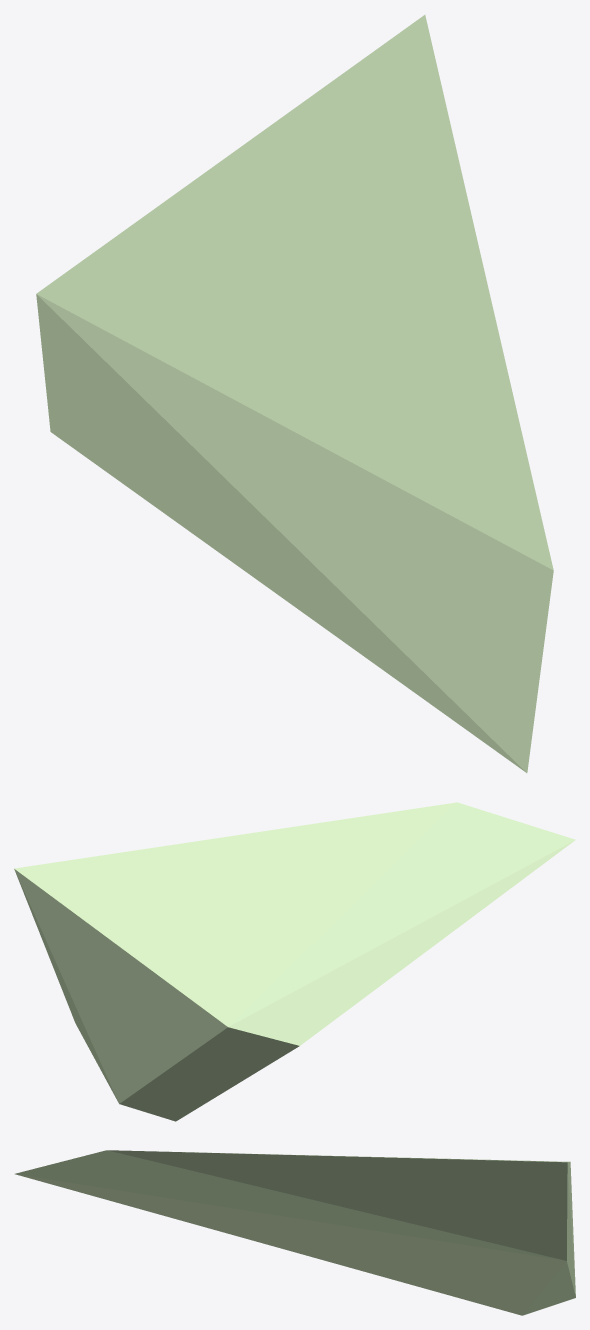
File: kuka_URDF_robot_base_coll_12.dae
The picture shows the model from 3 angles, top to bottom: view 1: azimuth 30°, elevation 25°; view 2: azimuth 150°, elevation 25°; view 3: azimuth 270°, elevation 25°; orthographic projection. The views are drawn at different scales.
Parts seen in each view (by area): view 1: Node_0000020FCC58D8B0; view 2: Node_0000020FCC58D8B0; view 3: Node_0000020FCC58D8B0.
Part boxes in pixels (x1=…): Node_0000020FCC58D8B0: x1=36, y1=14, x2=553, y2=772; Node_0000020FCC58D8B0: x1=14, y1=802, x2=575, y2=1121; Node_0000020FCC58D8B0: x1=15, y1=1150, x2=575, y2=1315.
Bounding box in the file's own units: 0.0425 × 0.0383 × 0.0916.
